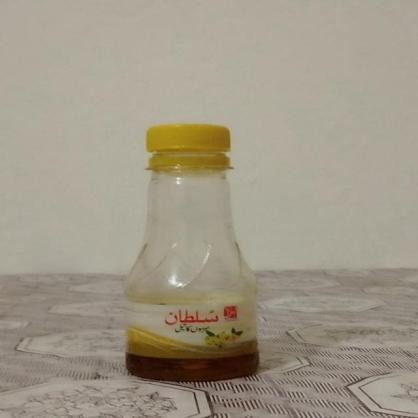bottle: (112, 113, 274, 384)
cap: (146, 120, 239, 174)
label: (126, 290, 259, 377)
